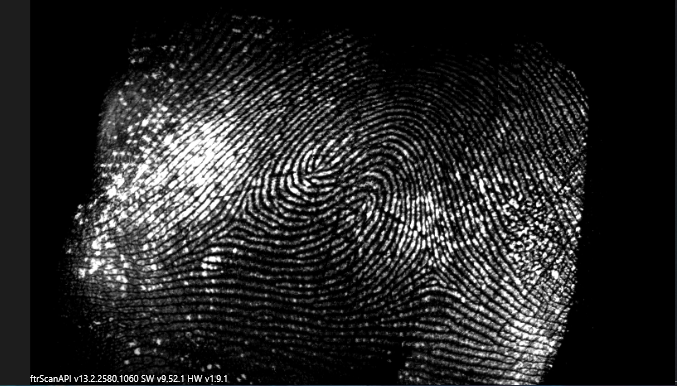deltas: (210, 187, 263, 242), (408, 243, 461, 295)
nucleo: (304, 133, 363, 188)
